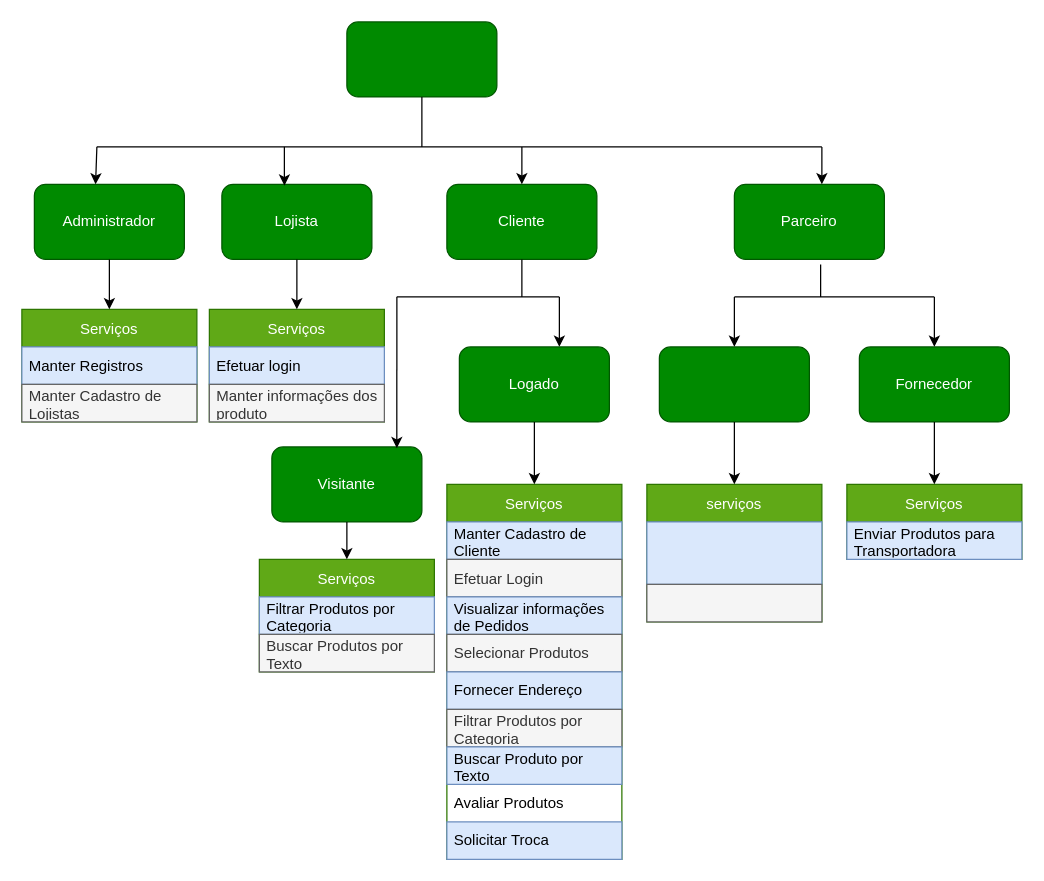
The diagram is 1044 pixels wide and 881 high, and some of its shapes have lost their labels. The centre of each missing label's shape, as x and y in pixels:
"Entregar Produtos" belongs at (734,602).
"Fornecer Informações de Rastreamento" belongs at (734,552).
"Pontos de vista" belongs at (421,59).
"Transportadora" belongs at (733,384).
